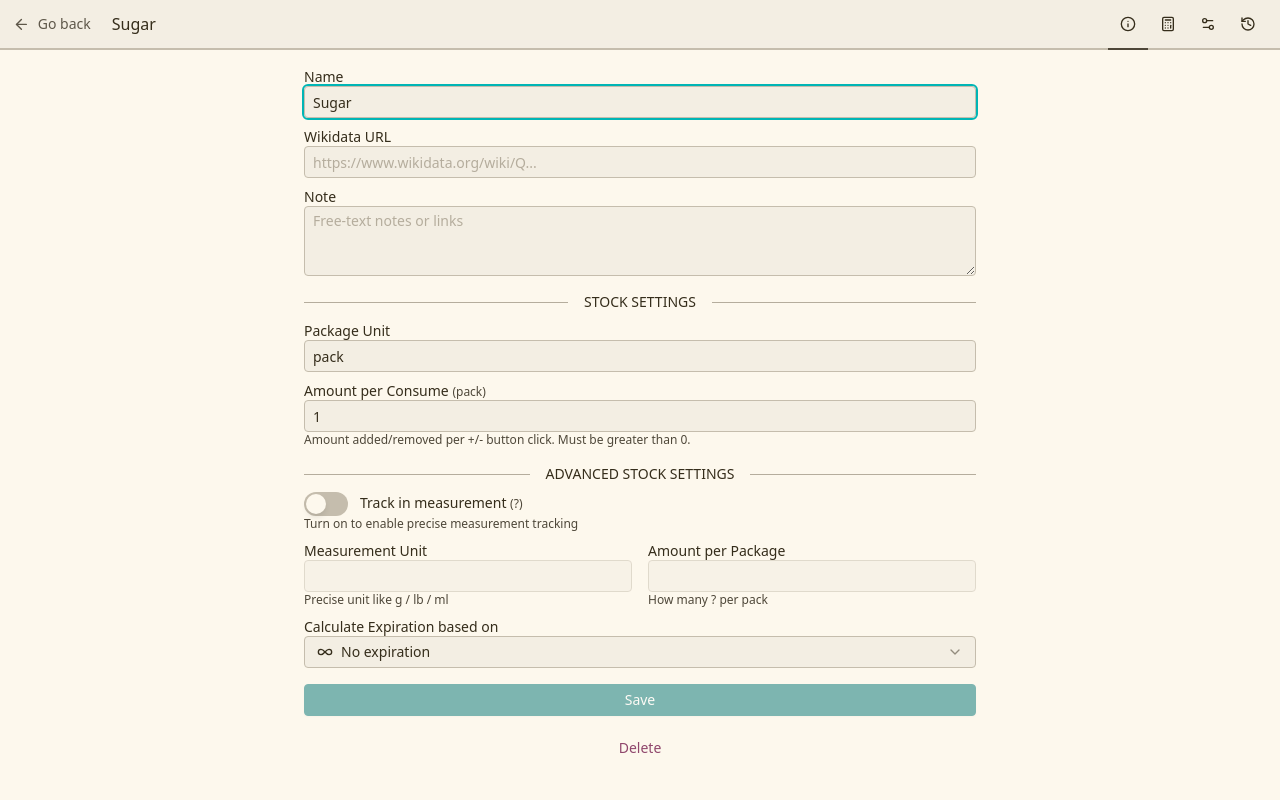
Scenario: Item detail page - manual quantity input › save button disabled when measurement tracking on but fields empty
Check: the field labelled "Measurement Unit" is shown, box [304,560,632,592]
Check: the button "Save" is disabled, box [304,684,976,716]
Step 1. Click the switch named "track in measurement" → [326, 504], box [304,492,348,516]
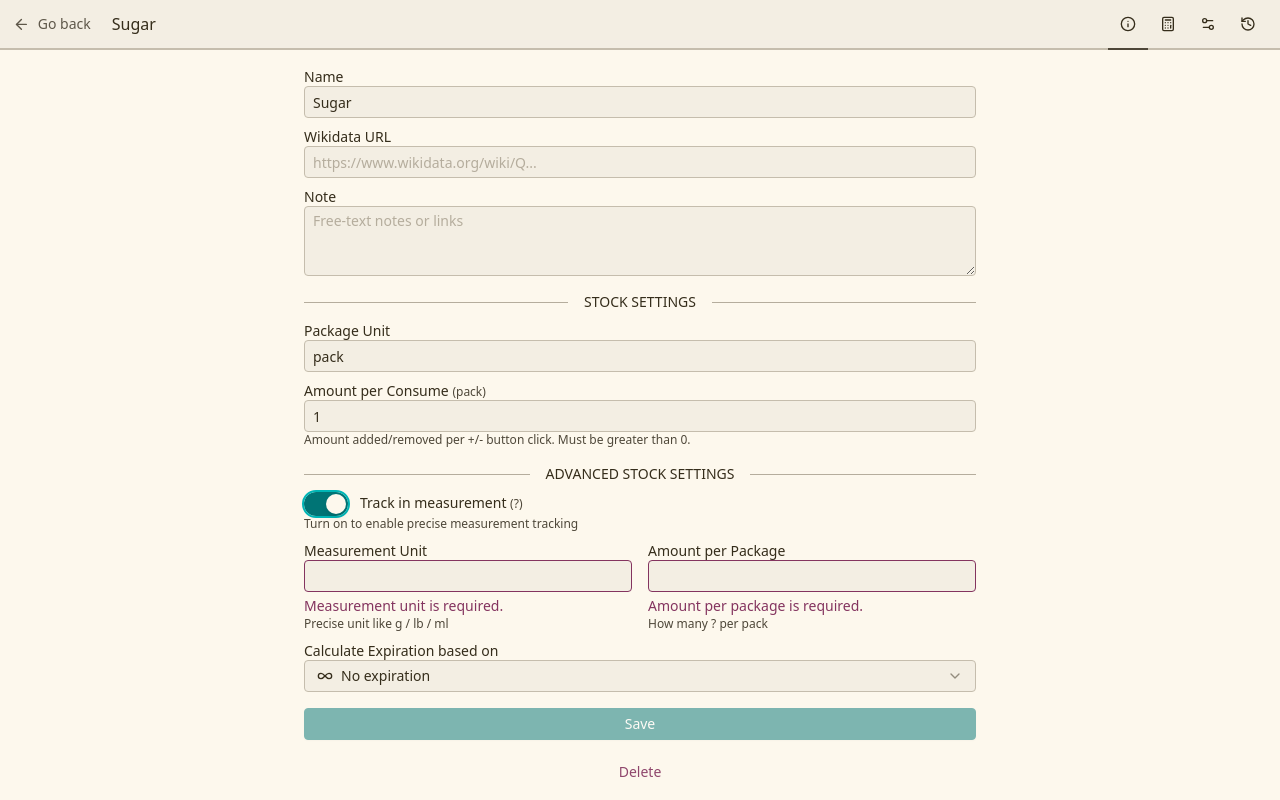
Check: the button "Save" is disabled, box [304,708,976,740]
# When user fills in measurement unit
Step 2. Type "g" into the field labelled "Measurement Unit" → [468, 576], box [304,560,632,592]
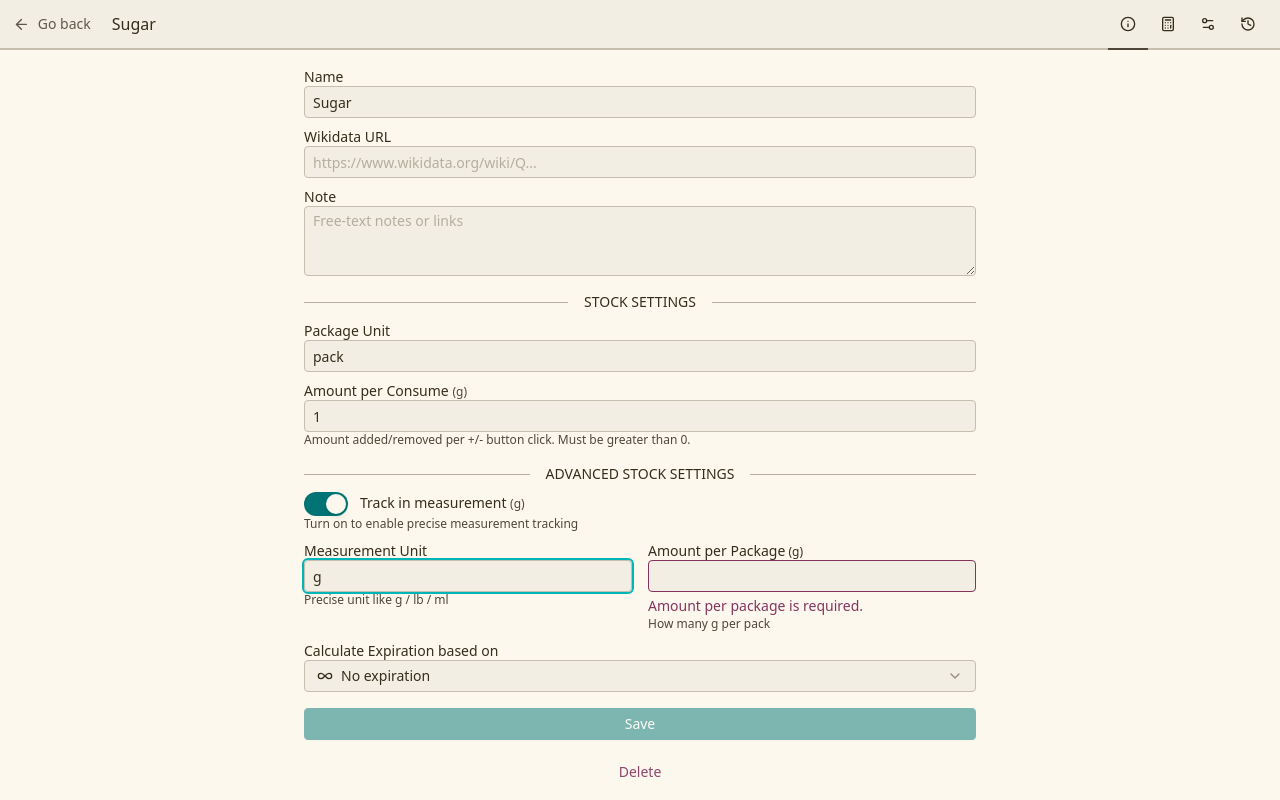
Check: the button "Save" is disabled, box [304,708,976,740]
# When user fills in amount per package
Step 3. Type "500" into the number field labelled "Amount per Package (g)" → [812, 576], box [648,560,976,592]
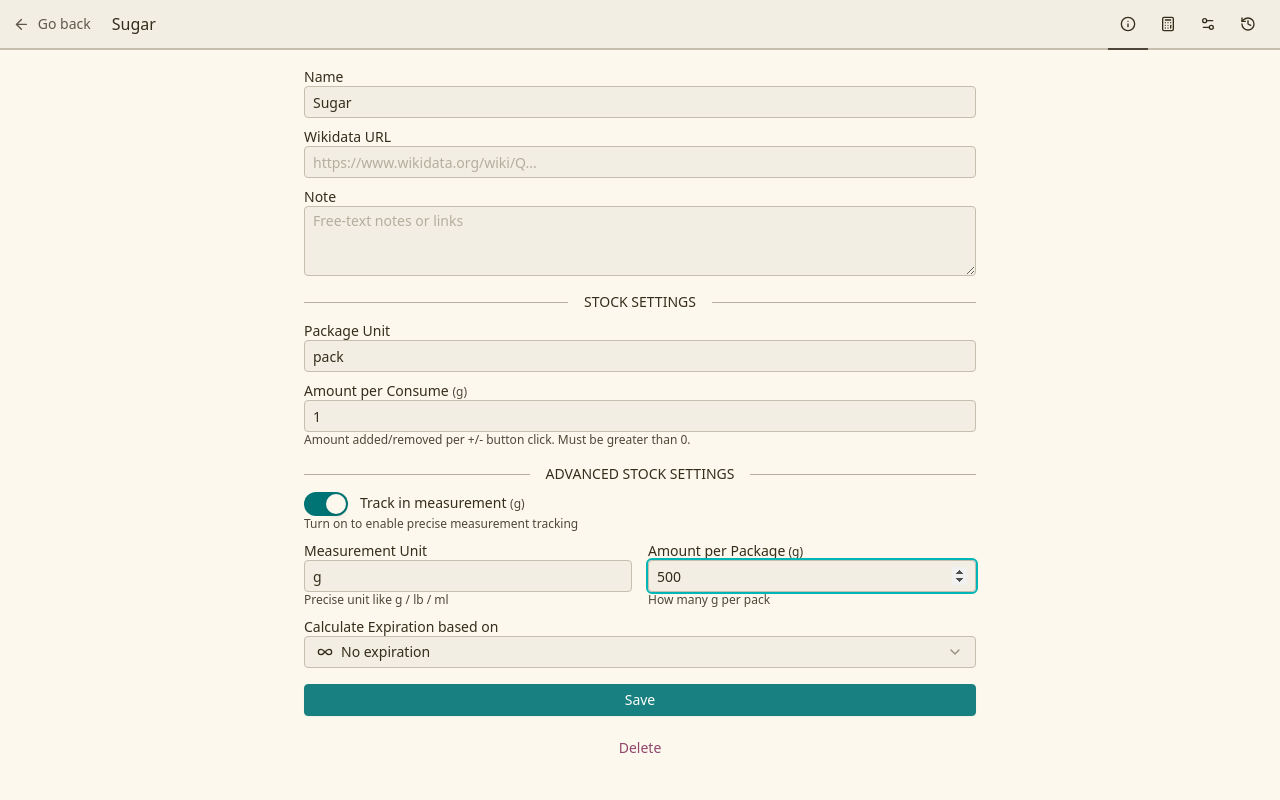
Check: the button "Save" is enabled, box [304,684,976,716]
